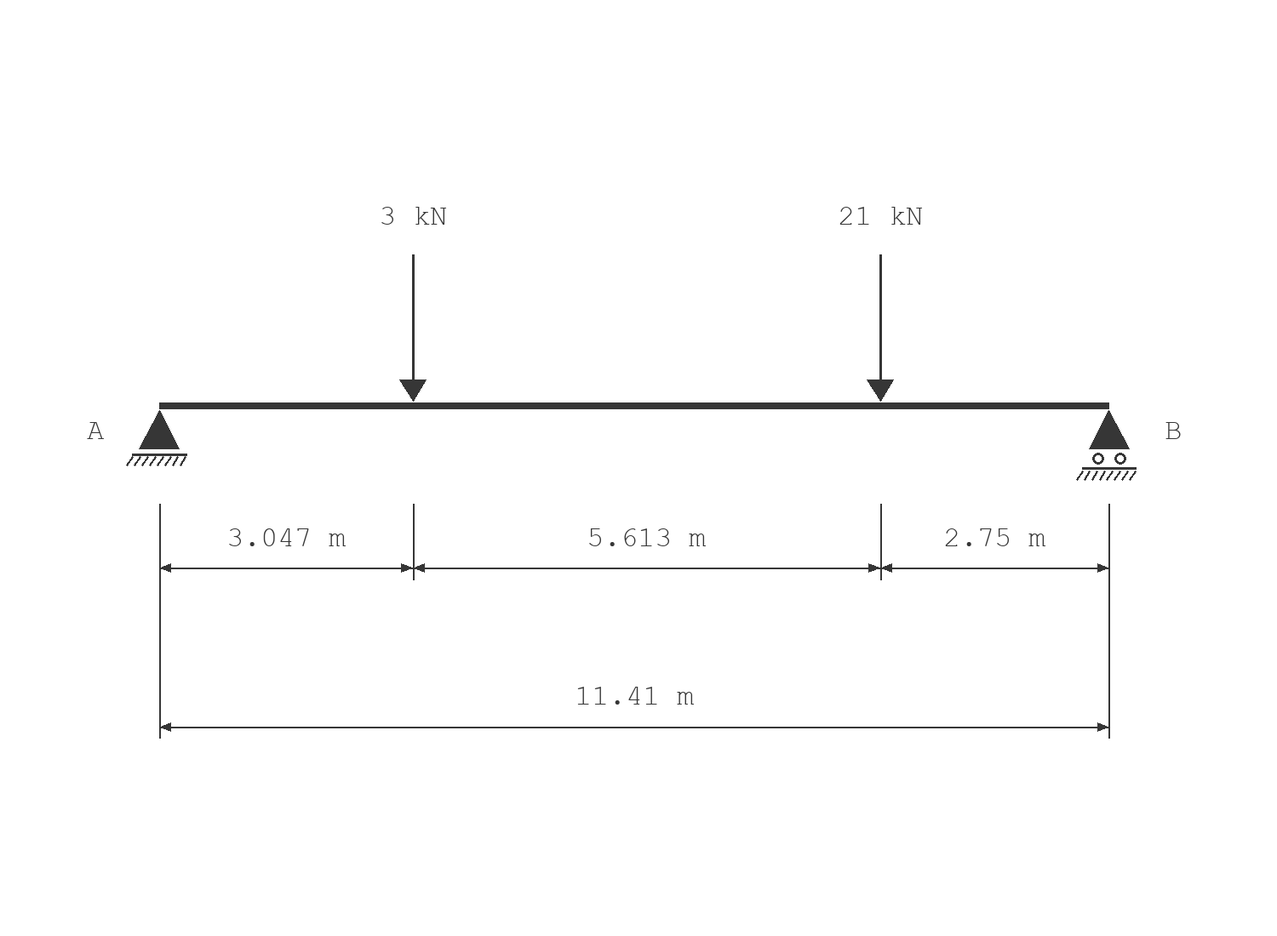pin_support: (126, 410, 187, 466)
point_load: (399, 254, 427, 402), (867, 254, 894, 402)
roller_support: (1076, 410, 1137, 481)
